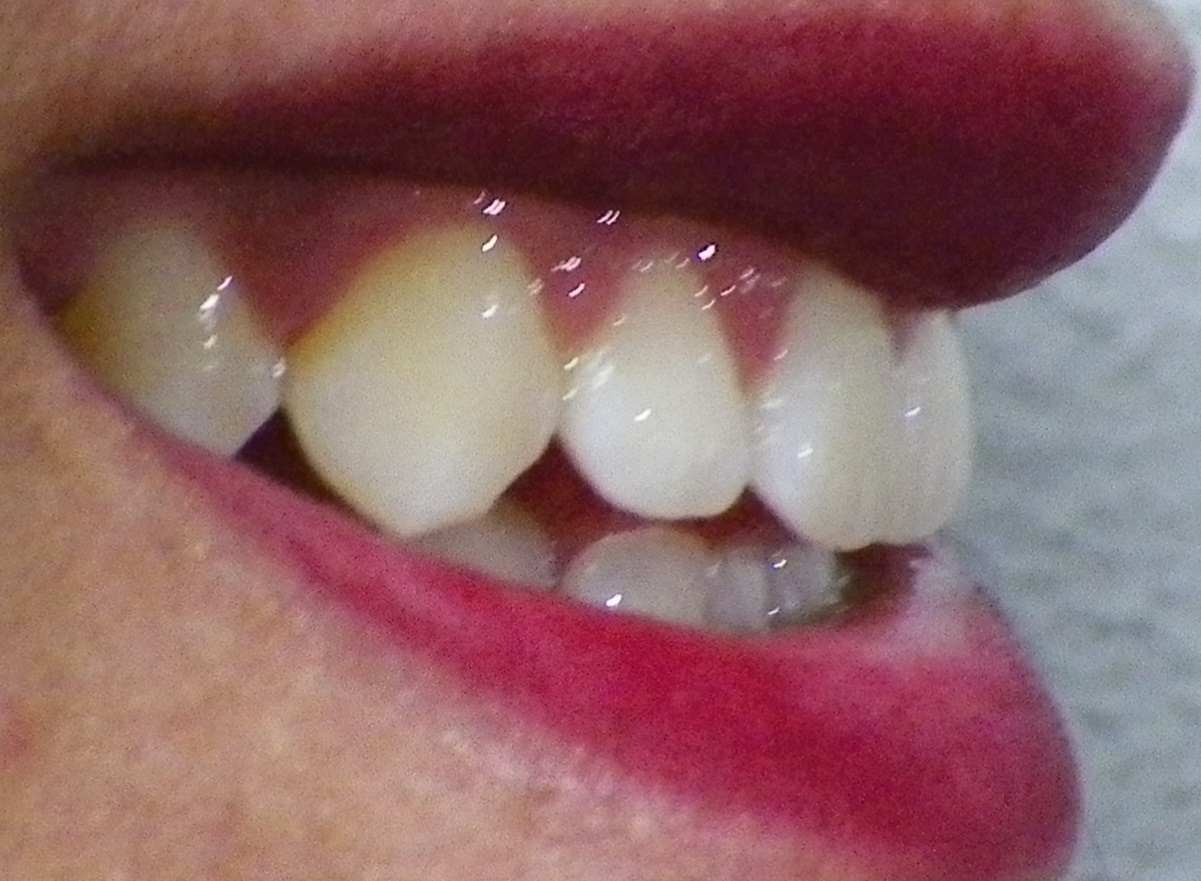boca: (87, 220, 981, 649)
